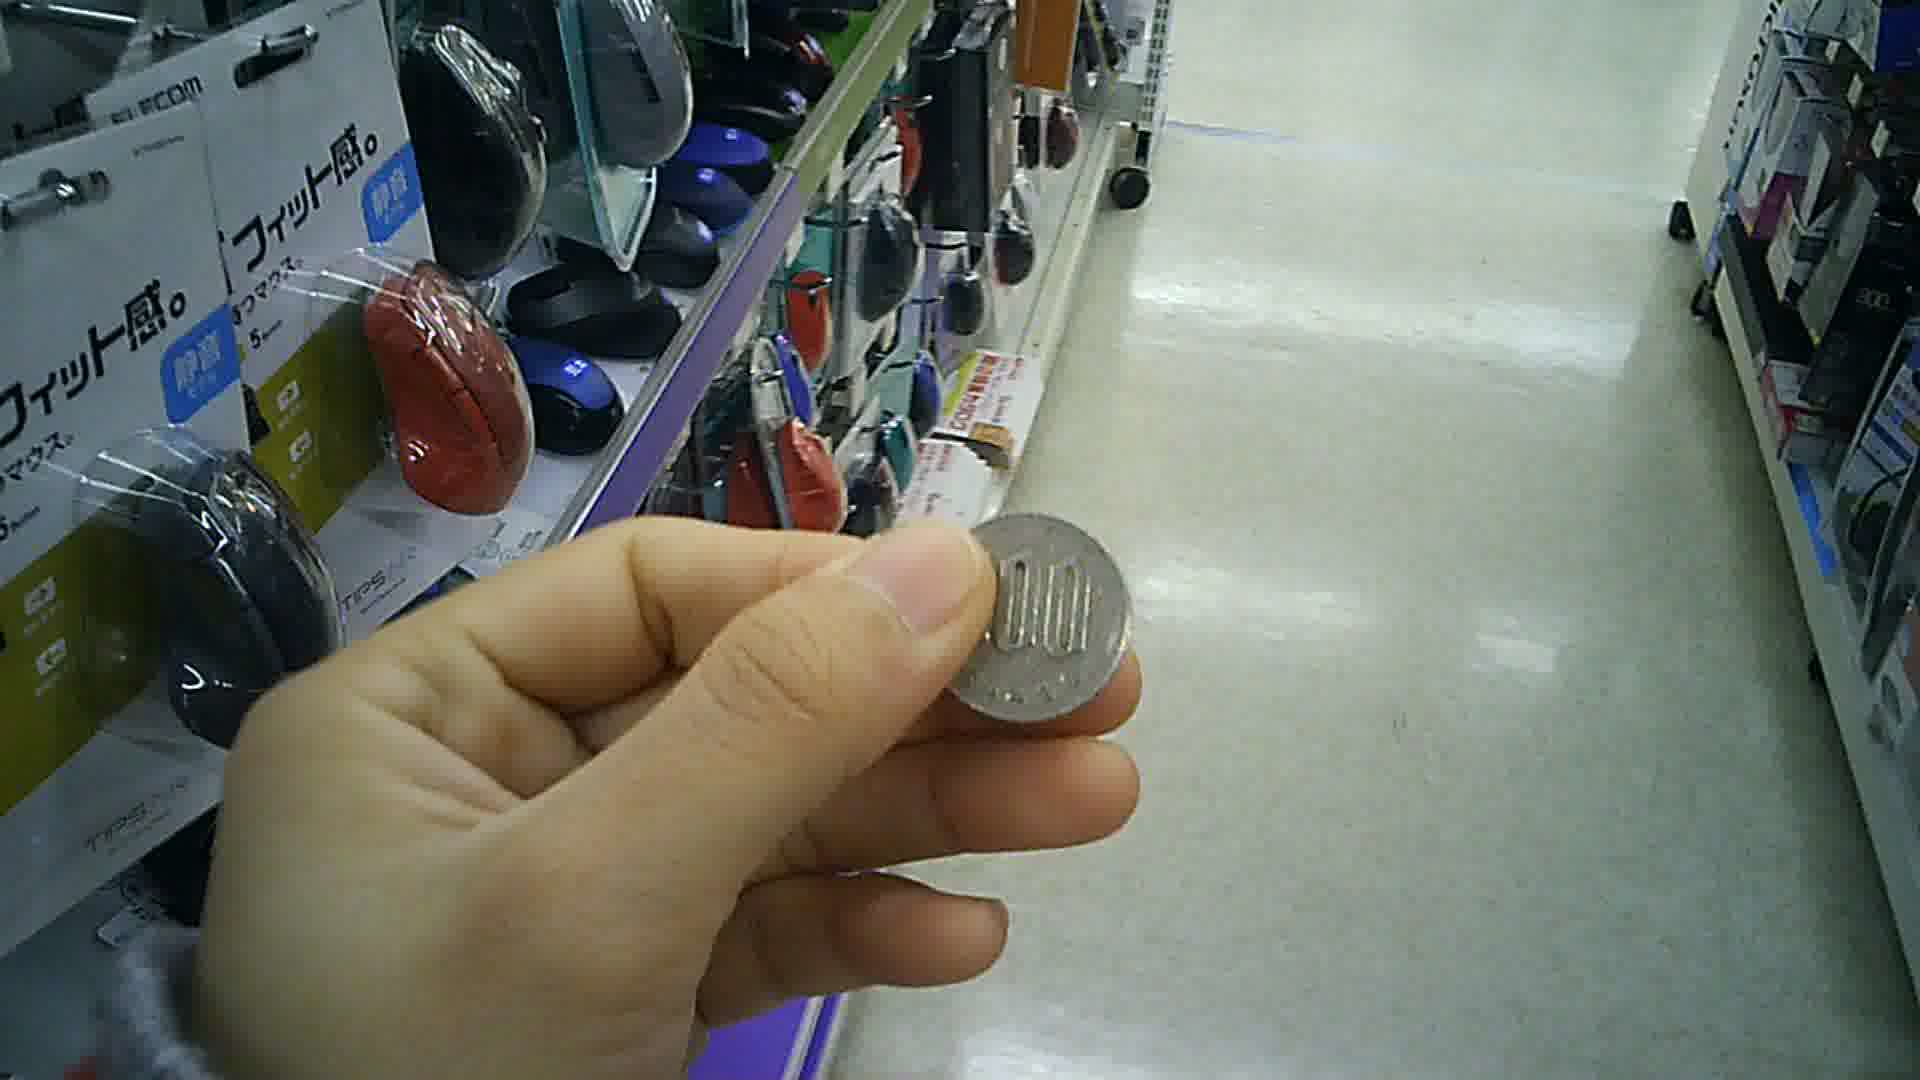100 Yen: (947, 506, 1137, 725)
